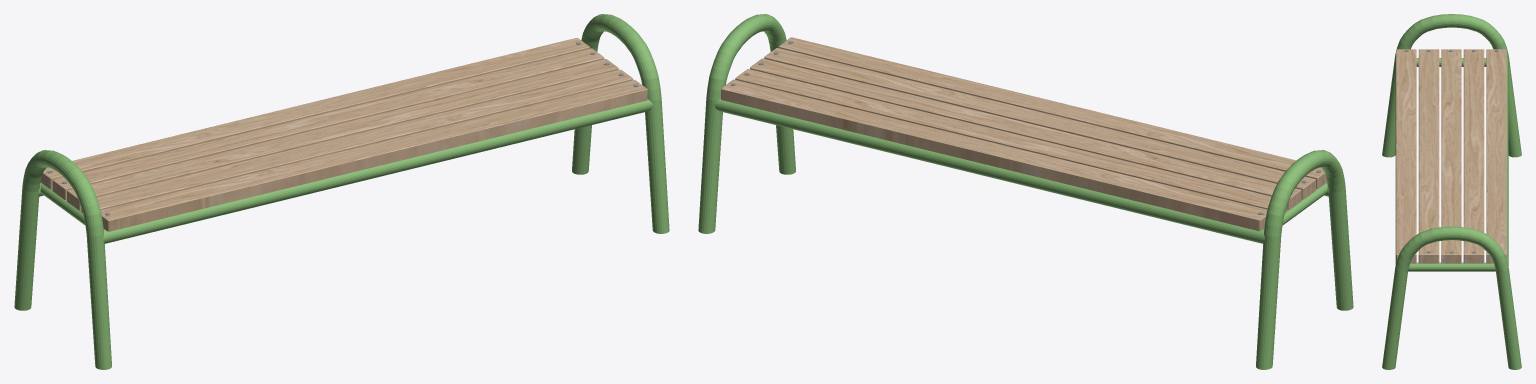
File: sweethome3d-blendswap-cc-0-bench-102.glb
The picture shows the model from 3 angles, left to right: view 1: azimuth 30°, elevation 25°; view 2: azimuth 150°, elevation 25°; view 3: azimuth 270°, elevation 25°; orthographic projection. The views are drawn at different scales.
Visible parts, largest first — view 1: Bench, Structure; view 2: Bench, Structure; view 3: Bench, Structure.
Part boxes in pixels (bbox=[...]): Bench: bbox=[40, 38, 647, 231]; Structure: bbox=[14, 14, 669, 369]; Bench: bbox=[721, 37, 1327, 231]; Structure: bbox=[698, 14, 1353, 369]; Bench: bbox=[1396, 49, 1506, 263]; Structure: bbox=[1382, 14, 1521, 369].
Size of the model in its own units: 170 by 50.84 by 45.99.
3 materials, 1 textured.
